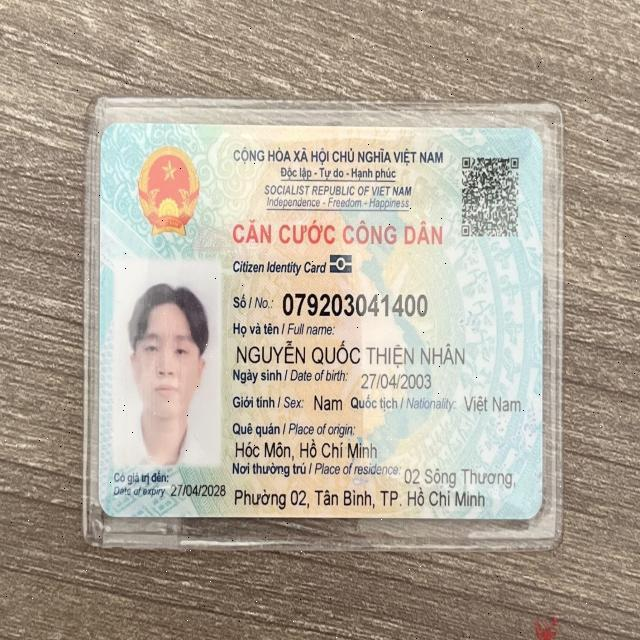current_place: (234, 485, 488, 511), (403, 462, 517, 490)
dob: (360, 370, 442, 390)
expire_date: (171, 479, 227, 503)
gender: (310, 390, 350, 414)
id: (279, 285, 429, 322)
name: (236, 335, 467, 367)
nationality: (461, 389, 522, 419)
origin_place: (233, 438, 380, 460)
